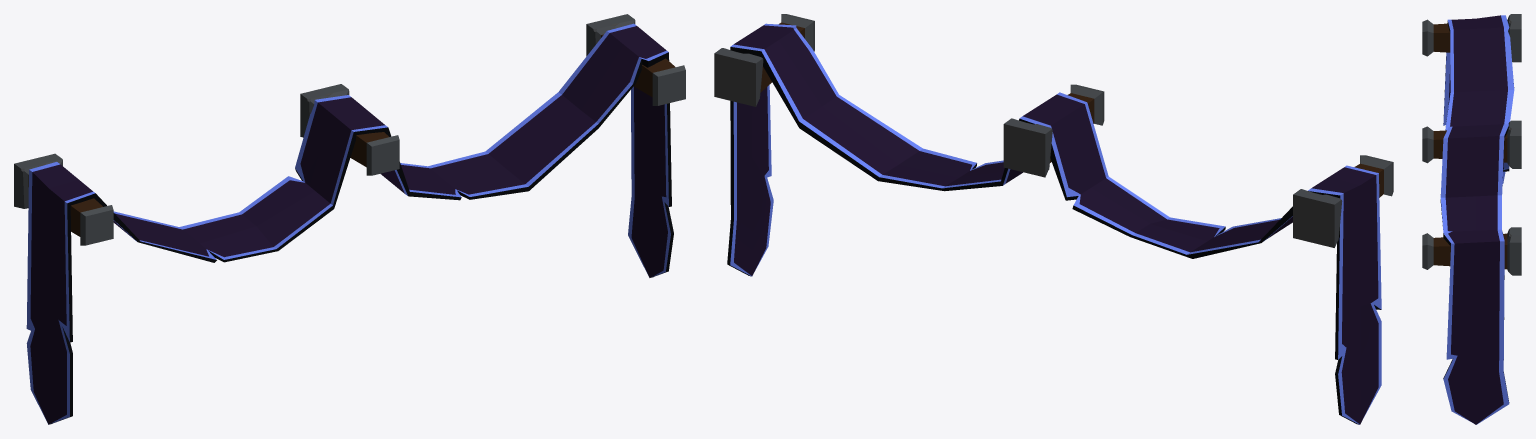
Rendered from WallCloths_Blue_01.glb.
3 renders of one model, left to right at view 1: azimuth 30°, elevation 25°; view 2: azimuth 150°, elevation 25°; view 3: azimuth 270°, elevation 25°, orthographic. The views are drawn at different scales.
Visible parts, largest first — view 1: WallCloths_Blue_01; view 2: WallCloths_Blue_01; view 3: WallCloths_Blue_01.
Part boxes in pixels (box(x1,y1,x2,y2)): WallCloths_Blue_01: box(14, 14, 685, 424); WallCloths_Blue_01: box(714, 14, 1393, 424); WallCloths_Blue_01: box(1422, 14, 1521, 424).
Size of what is drawn, in the model's own units: 4.08 by 1.53 by 0.7478.
1 material, 1 textured.
